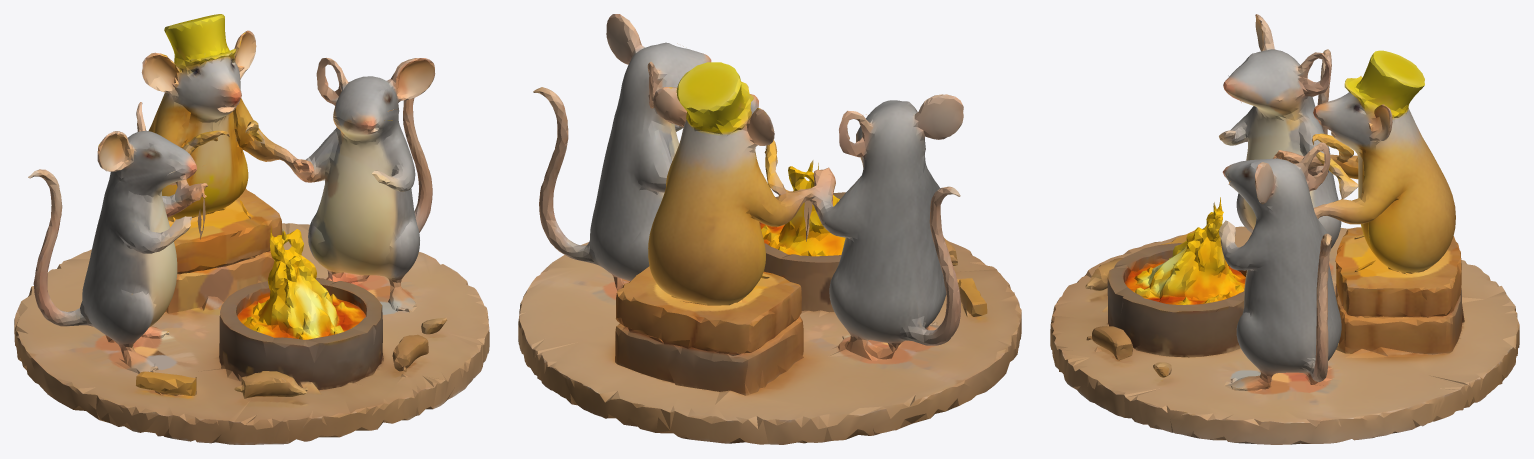
The picture shows the model from 3 angles, left to right: view 1: azimuth 30°, elevation 25°; view 2: azimuth 150°, elevation 25°; view 3: azimuth 270°, elevation 25°; orthographic projection. The views are drawn at different scales.
Parts seen in each view (by area): view 1: VictoryFeast; view 2: VictoryFeast; view 3: VictoryFeast.
Part boxes in pixels (<box>): VictoryFeast: <box>14,14,489,444</box>; VictoryFeast: <box>518,14,1021,444</box>; VictoryFeast: <box>1050,14,1519,444</box>.
Bounding box in the file's own units: 1.9 × 1.3 × 1.9.
Materials: 1 (1 with a texture image).
